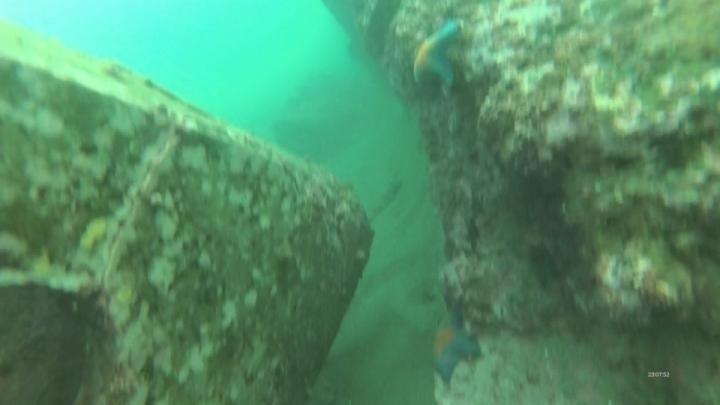starfish: (406, 17, 468, 97), (426, 303, 485, 387)
